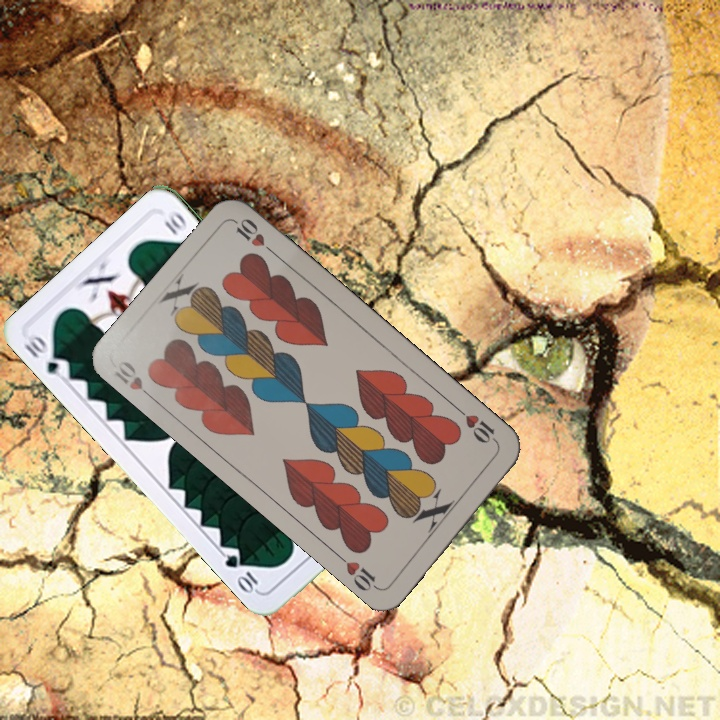G10: (19, 331, 73, 383)
H10: (111, 356, 159, 404), (454, 404, 502, 448)
